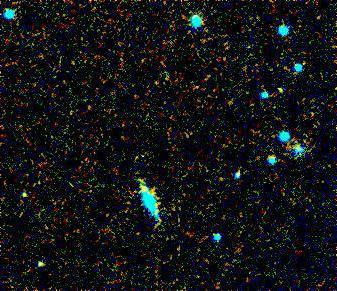star: (127, 169, 157, 199)
